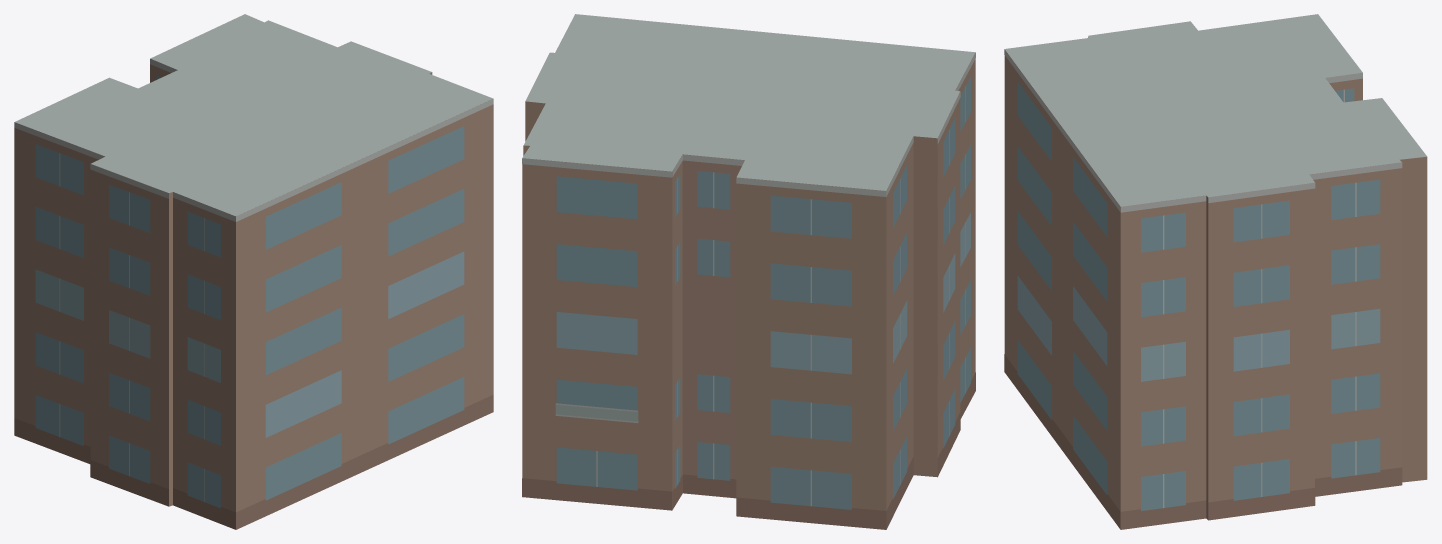
Rendered from survey-upis-32838792.glb.
The picture shows the model from 3 angles, left to right: view 1: azimuth 30°, elevation 25°; view 2: azimuth 150°, elevation 25°; view 3: azimuth 270°, elevation 25°; orthographic projection. The views are drawn at different scales.
Visible parts, largest first — view 1: survey-upis-32838792.tmp; view 2: survey-upis-32838792.tmp; view 3: survey-upis-32838792.tmp.
Boxes of the visible parts, <box> form: survey-upis-32838792.tmp: <box>14,14,493,529</box>; survey-upis-32838792.tmp: <box>522,14,975,529</box>; survey-upis-32838792.tmp: <box>1004,14,1427,529</box>.
Size of the model in its own units: 17.36 by 13.55 by 16.09.
